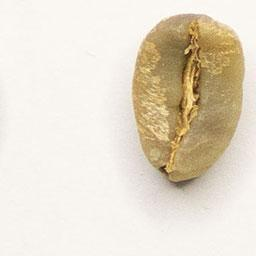longberry: (127, 8, 249, 187)
